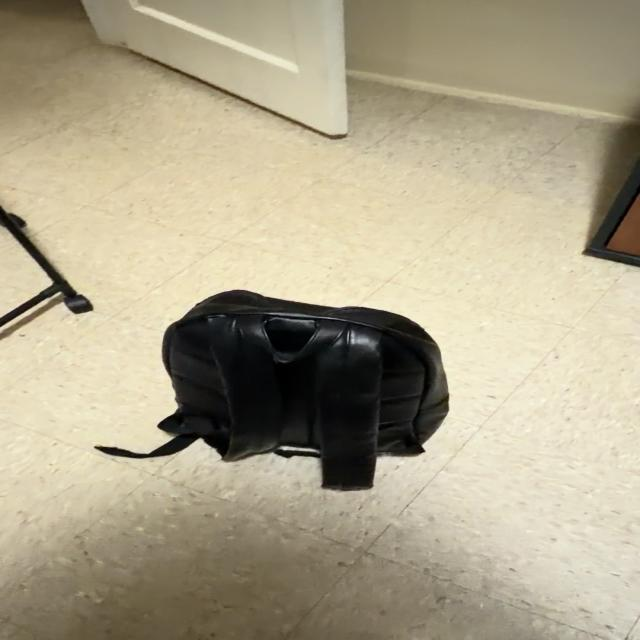backpack: (97, 291, 448, 489)
